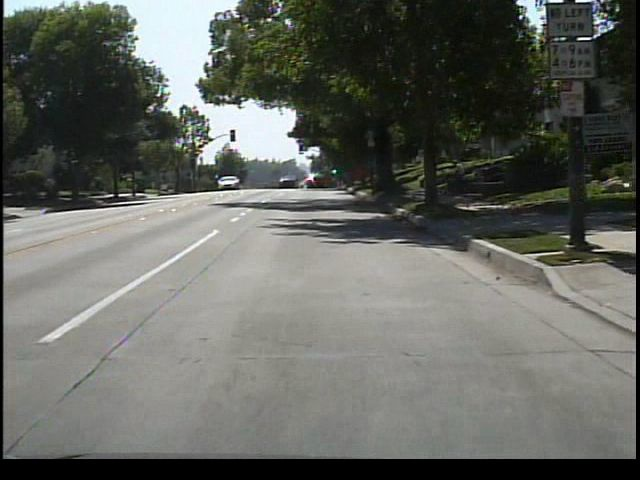person: (447, 156, 470, 196)
